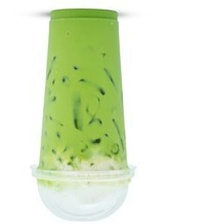glass: (28, 4, 140, 221)
